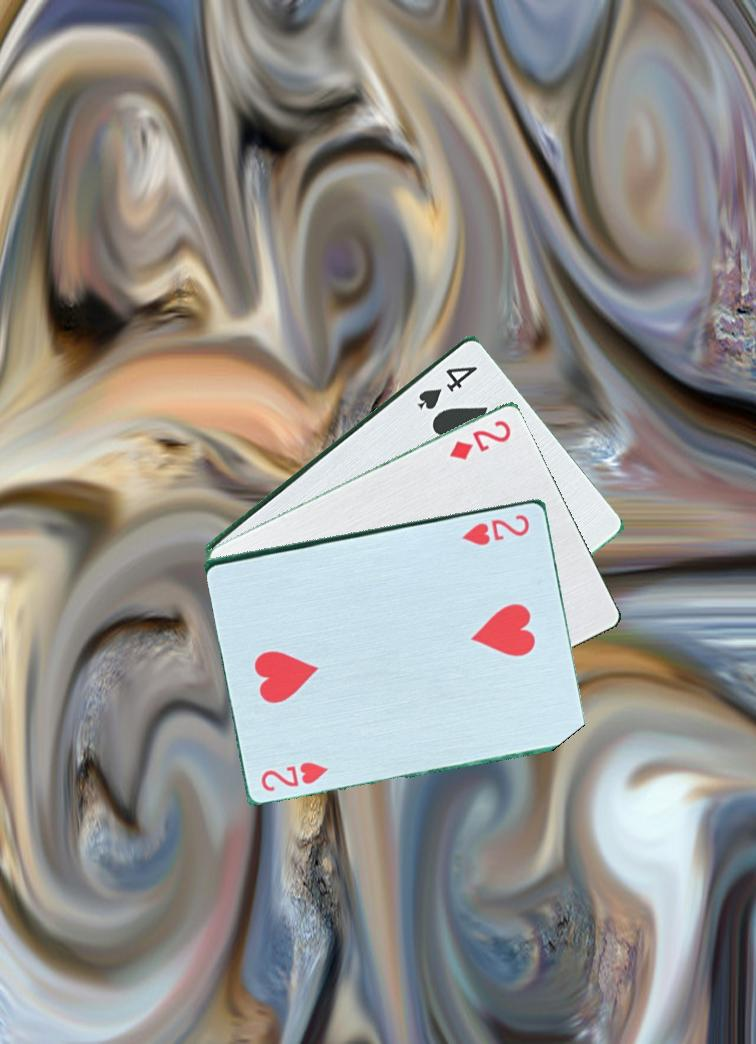2d: (446, 411, 523, 463)
2h: (257, 757, 337, 794), (458, 510, 533, 547)
4s: (414, 361, 480, 412)
